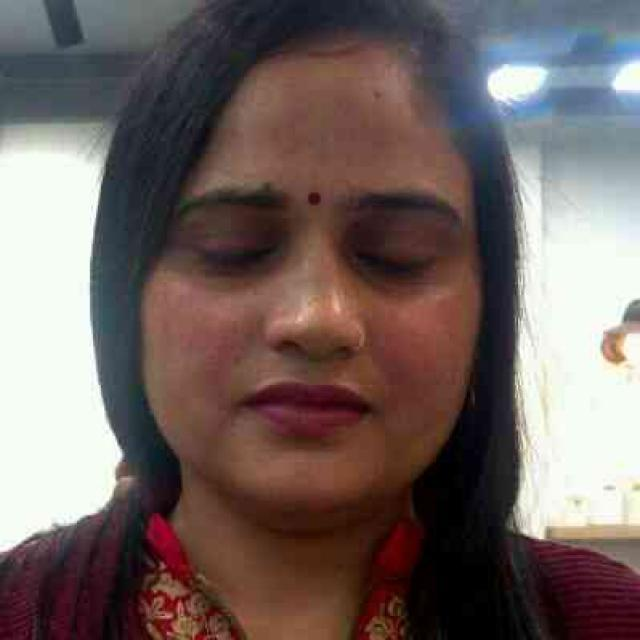puffy_eyes: (347, 264, 427, 304), (185, 260, 281, 290)
